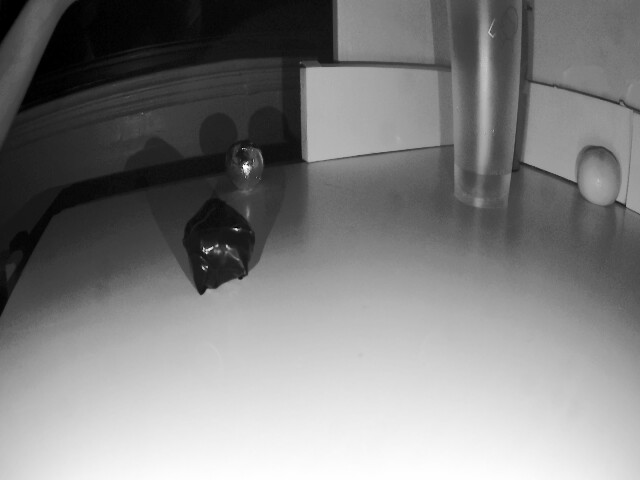black: (173, 205, 263, 290)
silver: (229, 140, 270, 199)
